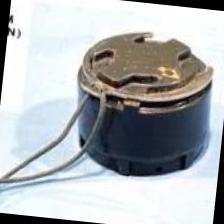M14: (68, 24, 216, 184)
